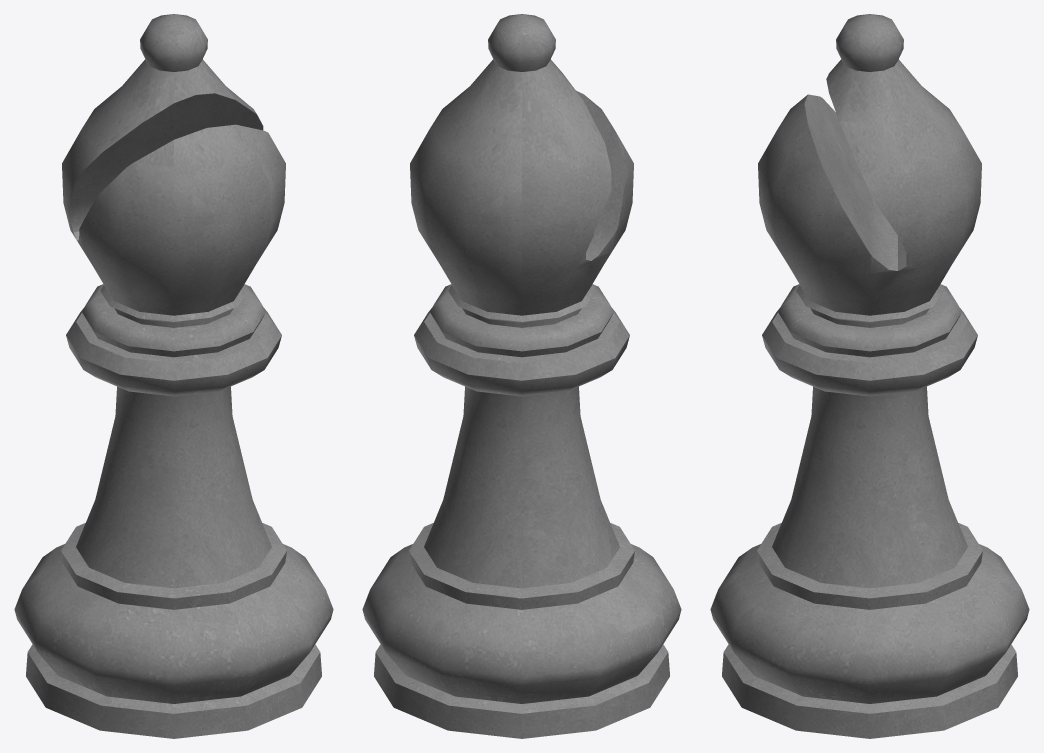
The model's file is SBishop.obj.
The picture shows the model from 3 angles, left to right: view 1: azimuth 30°, elevation 25°; view 2: azimuth 150°, elevation 25°; view 3: azimuth 270°, elevation 25°; orthographic projection.
Parts seen in each view (by area): view 1: Bishop.002; view 2: Bishop.002; view 3: Bishop.002.
Part boxes in pixels (<box>): Bishop.002: <box>14,14,333,738</box>; Bishop.002: <box>362,14,681,738</box>; Bishop.002: <box>710,14,1029,738</box>.
Bounding box in the file's own units: 0.179 × 0.4095 × 0.179.
Materials: 1 (1 with a texture image).
